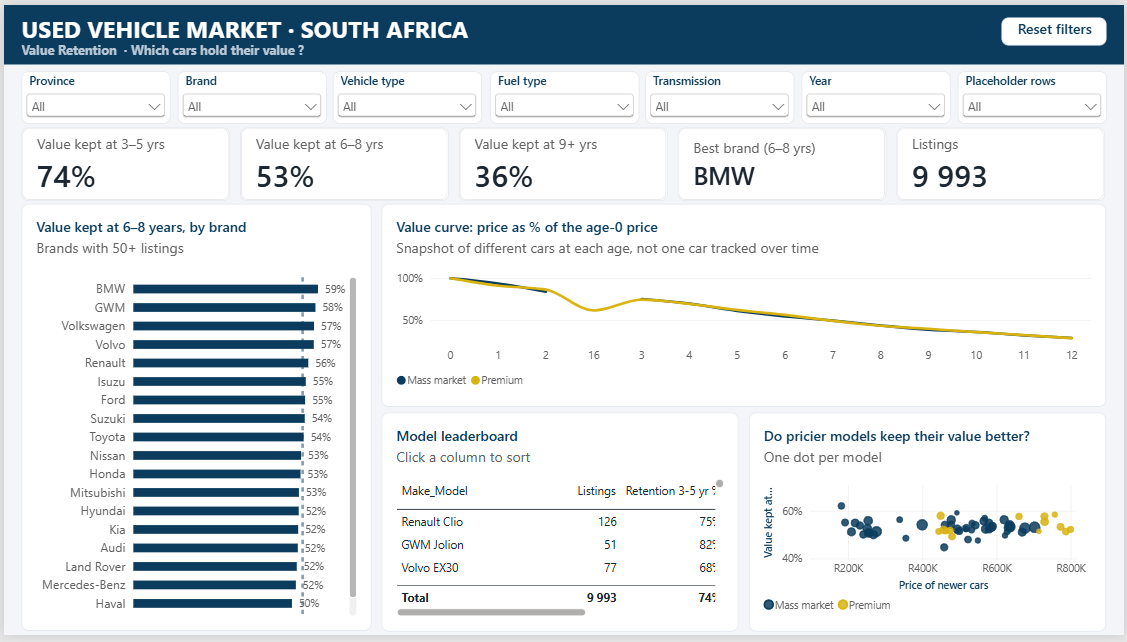

The dashboard page shown, as its layout file describes it:
{"tool":"powerbi","page":{"name":"Value Retention","canvas":[1280,720],"ordinal":2},"visuals":[{"type":"shape","box":[0,0,1280,68],"z":0},{"type":"textbox","box":[20,8,550,36],"z":1000},{"type":"textbox","box":[20.5,41,548.9,24.1],"z":2000},{"type":"slicer","fields":{"Values":["Fact_Vehicles.Province"]},"box":[20.5,76,170.1,60.3],"z":3000},{"type":"slicer","fields":{"Values":["Fact_Vehicles.Brand"]},"box":[198,76,170,60],"z":4000},{"type":"slicer","fields":{"Values":["Fact_Vehicles.Vehicle_Type"]},"box":[376,76,170,60],"z":5000},{"type":"slicer","fields":{"Values":["Fact_Vehicles.Fuel_Type"]},"box":[555,76,170,60],"z":6000},{"type":"slicer","fields":{"Values":["Fact_Vehicles.Transmission"]},"box":[733,76,170,60],"z":7000},{"type":"slicer","fields":{"Values":["Fact_Vehicles.Year"]},"box":[911,76,170,60],"z":8000},{"type":"slicer","fields":{"Values":["Fact_Vehicles.Placeholder_Flag"]},"box":[1090,76,170,60],"z":9000},{"type":"cardVisual","fields":{"Data":["_Measures (2).Retention 3-5 yr %"]},"box":[20,140,238,84],"z":10000},{"type":"cardVisual","fields":{"Data":["_Measures (2).Retention 6-8 yr %"]},"box":[270,140,238,84],"z":11000},{"type":"cardVisual","fields":{"Data":["_Measures (2).Retention 9+ yr %"]},"box":[520,140,238,84],"z":12000},{"type":"cardVisual","fields":{"Data":["_Measures (2).Best Brand"]},"box":[770,140,238,84],"z":13000},{"type":"cardVisual","fields":{"Data":["_Measures (2).Listings"]},"box":[1020,140,238,84],"z":14000},{"type":"actionButton","title":"Reset filters","box":[1140,14,120,32],"z":15000},{"type":"clusteredBarChart","title":"Value kept at 6–8 years, by brand","fields":{"Category":["Fact_Vehicles.Brand"],"Y":["_Measures (2).Retention 6-8 yr %"]},"box":[20,227,400,488],"z":16000},{"type":"lineChart","title":"Value curve: price as % of the age-0 price","fields":{"Category":["Fact_Vehicles.Vehicle_Age"],"Y":["_Measures (2).Price Index"],"Series":["Dim_Brand.Segment"]},"box":[432,227,828,232],"z":17000},{"type":"tableEx","title":"Model leaderboard","fields":{"Values":["Fact_Vehicles.Make_Model","_Measures (2).Listings","_Measures (2).Retention 3-5 yr %","_Measures (2).Retention 6-8 yr %","_Measures (2).Retention 9+ yr %"]},"box":[432,465,408,250],"z":17001},{"type":"scatterChart","title":"Do pricier models keep their value better?","fields":{"Category":["Fact_Vehicles.Make_Model"],"Size":["_Measures (2).Listings"],"Series":["Dim_Brand.Segment"],"X":["_Measures (2).Avg Price (0-2 yrs)"],"Y":["_Measures (2).Retention 6-8 yr %"]},"box":[852,465,408,250],"z":17002}]}

Visuals, with their boxes in screenshot pixels (x1, y1, x2, y2), scaled from the page's 1280x720 canvas onto the 1127x642 screenshot:
shape: <region>0, 0, 1126, 61</region>
textbox: <region>18, 7, 502, 39</region>
textbox: <region>18, 37, 501, 58</region>
slicer - Fact_Vehicles.Province: <region>18, 68, 168, 122</region>
slicer - Fact_Vehicles.Brand: <region>174, 68, 324, 121</region>
slicer - Fact_Vehicles.Vehicle_Type: <region>331, 68, 481, 121</region>
slicer - Fact_Vehicles.Fuel_Type: <region>489, 68, 638, 121</region>
slicer - Fact_Vehicles.Transmission: <region>645, 68, 795, 121</region>
slicer - Fact_Vehicles.Year: <region>802, 68, 952, 121</region>
slicer - Fact_Vehicles.Placeholder_Flag: <region>960, 68, 1109, 121</region>
cardVisual - _Measures (2).Retention 3-5 yr %: <region>18, 125, 227, 200</region>
cardVisual - _Measures (2).Retention 6-8 yr %: <region>238, 125, 447, 200</region>
cardVisual - _Measures (2).Retention 9+ yr %: <region>458, 125, 667, 200</region>
cardVisual - _Measures (2).Best Brand: <region>678, 125, 888, 200</region>
cardVisual - _Measures (2).Listings: <region>898, 125, 1108, 200</region>
"Reset filters" actionButton: <region>1004, 12, 1109, 41</region>
"Value kept at 6–8 years, by brand" clusteredBarChart: <region>18, 202, 370, 638</region>
"Value curve: price as % of the age-0 price" lineChart: <region>380, 202, 1109, 409</region>
"Model leaderboard" tableEx: <region>380, 415, 740, 638</region>
"Do pricier models keep their value better?" scatterChart: <region>750, 415, 1109, 638</region>
